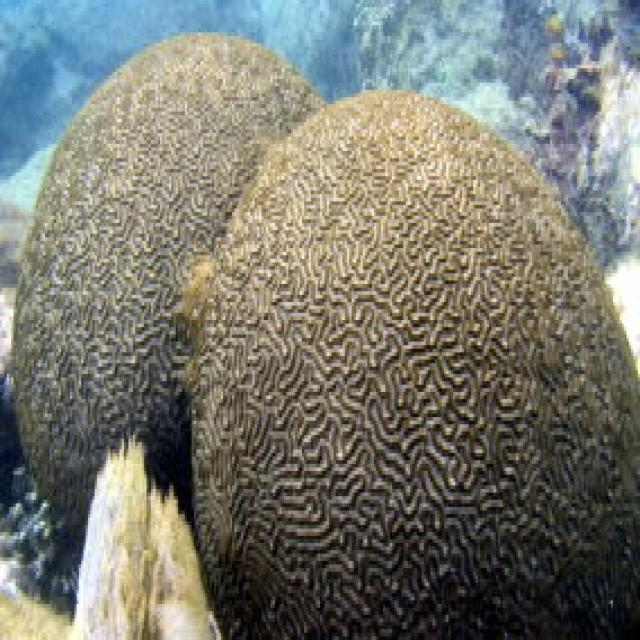Coral: (190, 88, 640, 640), (13, 30, 328, 546)
